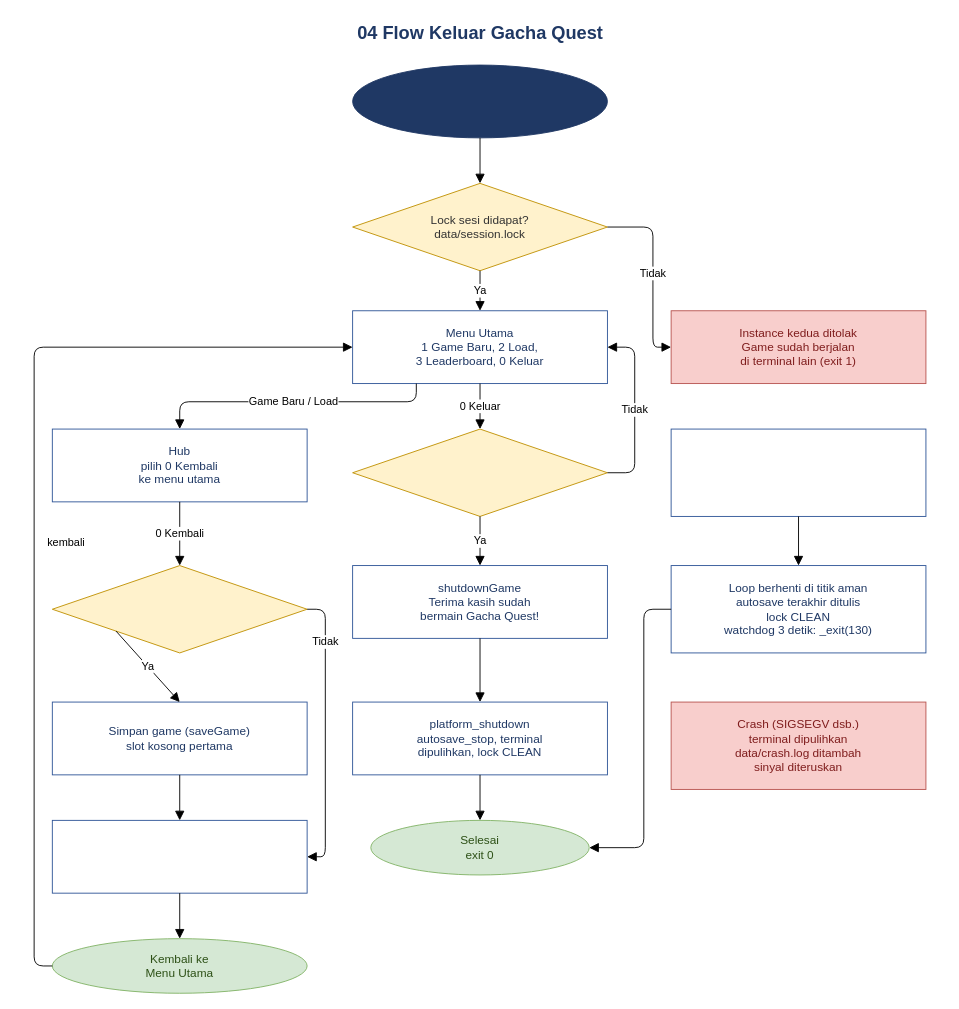
Image size: 959x1009. Some labels were removed from this diagram. Each missing label, with the box of its shape:
Belum disimpan? Simpan sebelum keluar? (y/n): (51, 565, 307, 653)
Ctrl+C / sinyal tiba handler hanya set flag self-pipe bangunkan poll: (670, 428, 926, 516)
Konfirmasi keluar? (y/n) Esc berarti Tidak: (352, 428, 607, 516)
Mulai: bin/game platform_init: lock, sinyal, crash, autosave: (352, 64, 607, 138)
recordScore autosave_publish AS_SCREEN_MENU, important=1: (51, 819, 307, 893)
